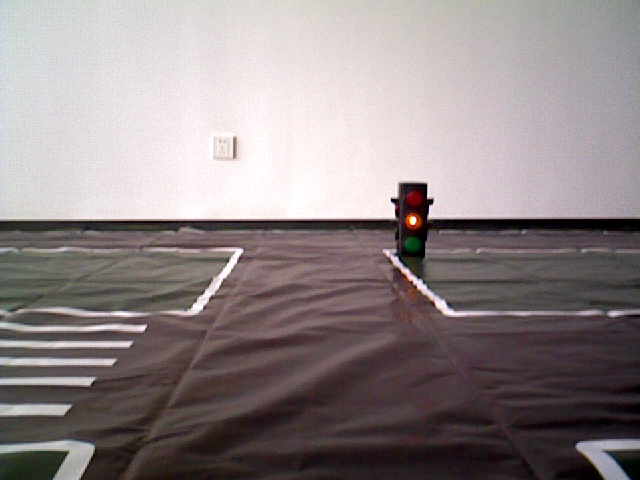yellow: (393, 177, 434, 263)
